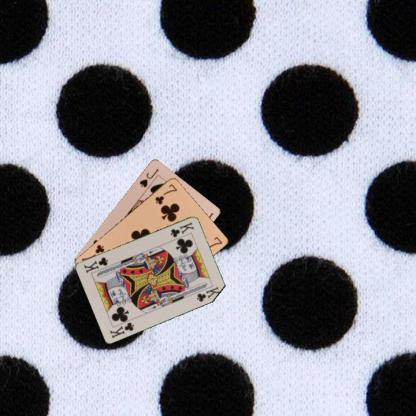7c: (152, 181, 178, 206)
Js: (137, 166, 160, 188)
Kc: (107, 319, 136, 339), (168, 219, 195, 239)
